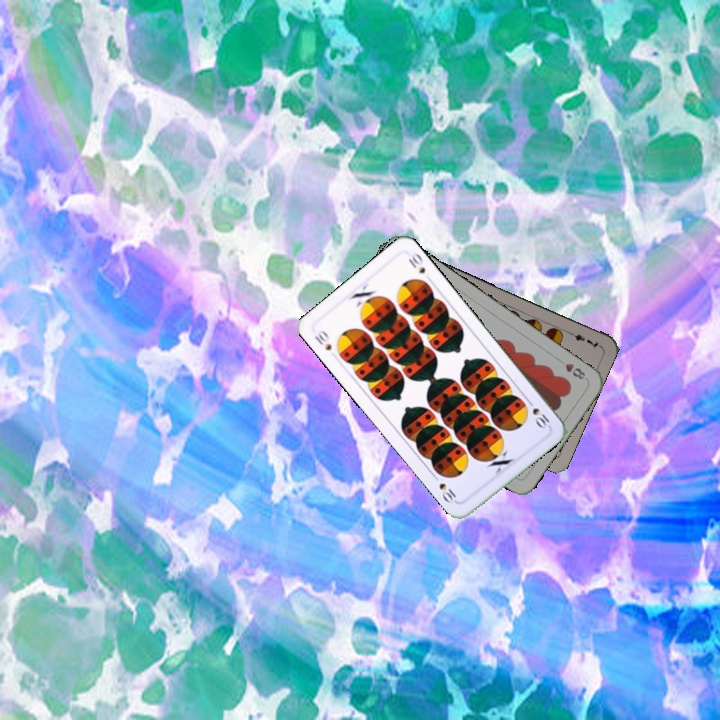E7: (564, 327, 603, 352)
H8: (554, 355, 588, 382)
S10: (523, 395, 552, 432), (311, 326, 334, 353)
